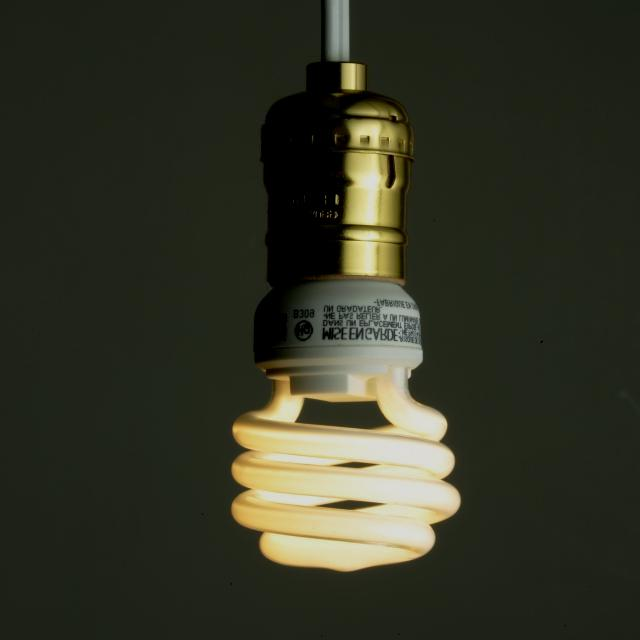B3: (223, 5, 449, 594)
